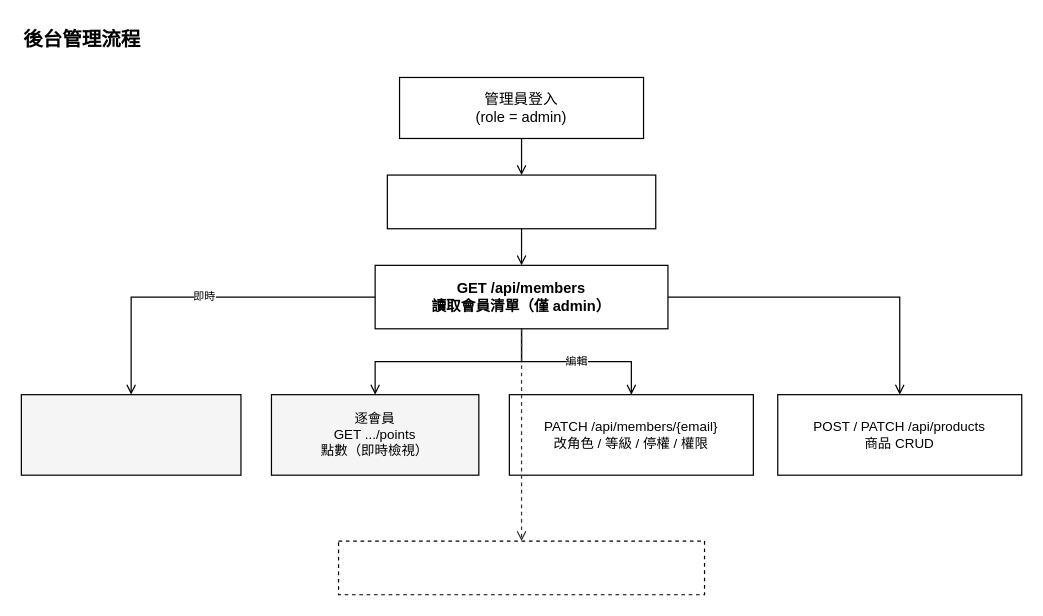
The diagram is 1043 pixels wide and 616 high, and some of its shapes have lost their labels. Each missing label, with the centre of its shape:
"任何請求遇 401（session 過期）→ 自動用暫存帳密重登 → 重試" belongs at [521,567].
"種下 session cookie (SameSite=None; Secure; HttpOnly)" belongs at [521,201].
"逐會員 GET .../saved-looks 收藏數（即時檢視）" belongs at [130,434].
